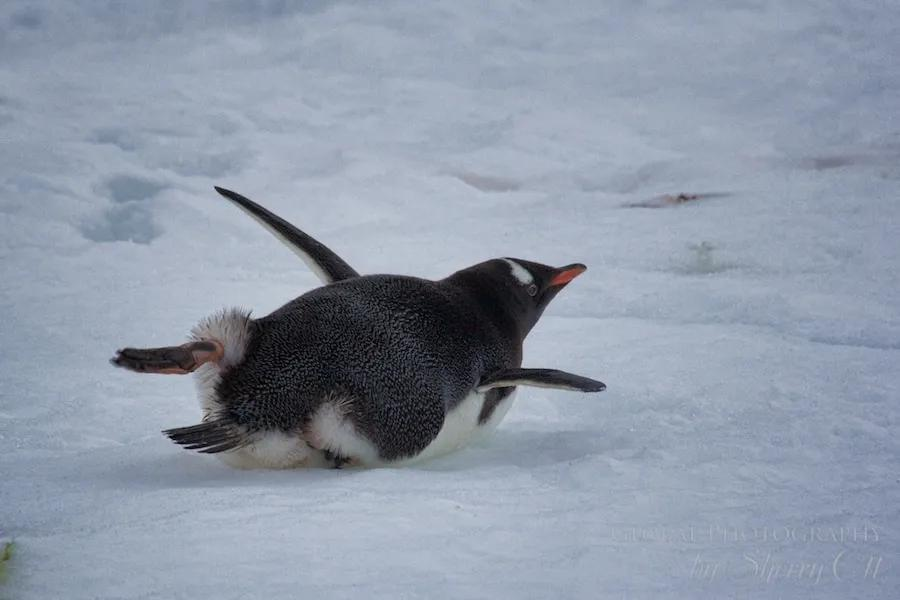Penguin: (113, 188, 605, 468)
